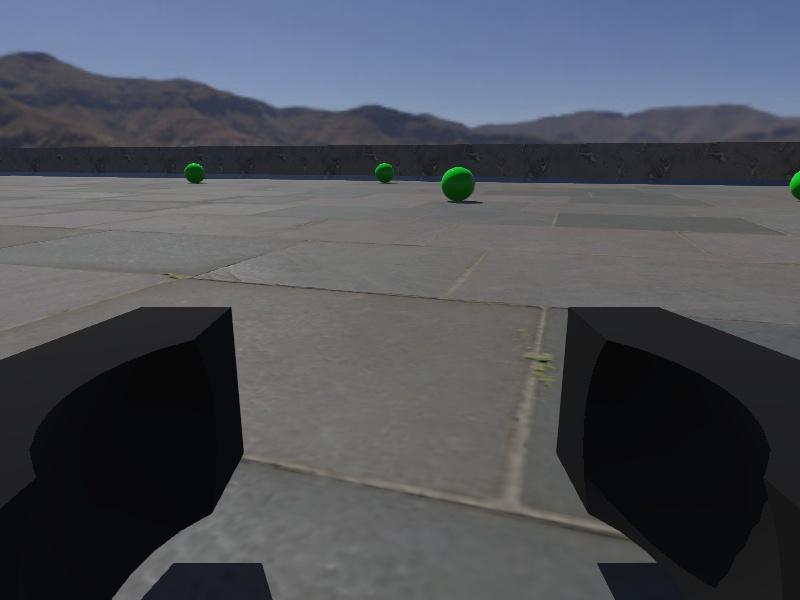green ball: (440, 165, 476, 202), (183, 162, 205, 183), (373, 163, 396, 183)
